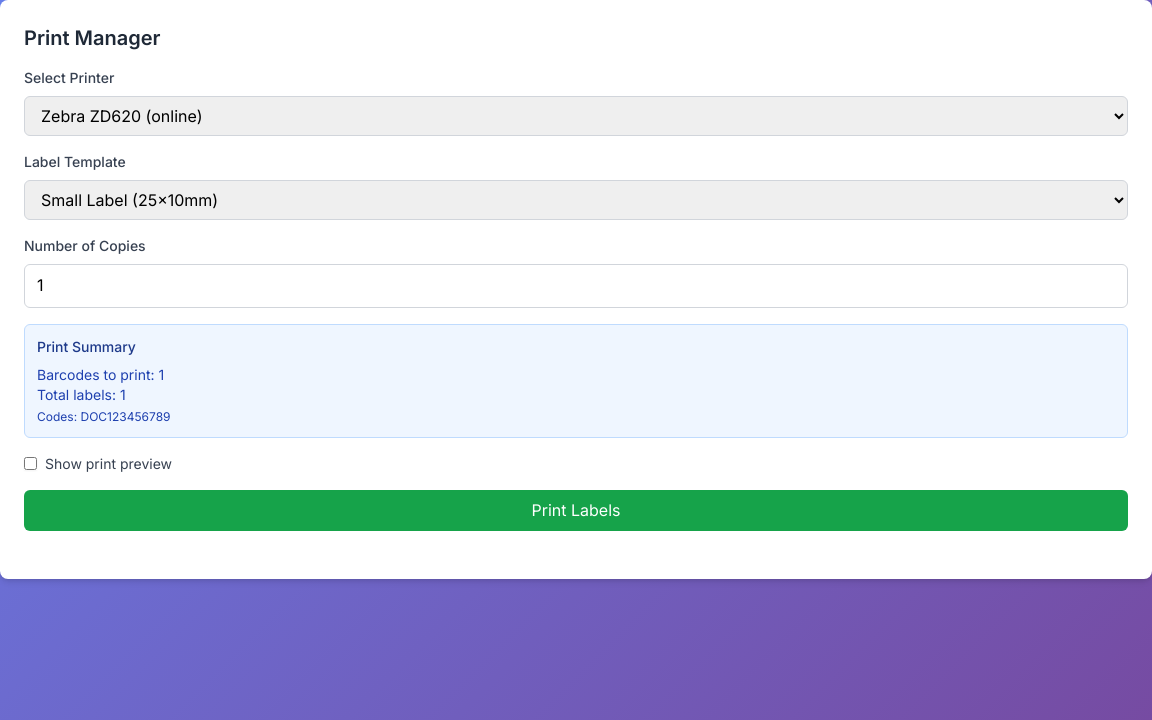
Test: PrintManager › updates copies and recalculates total labels
The width and height of the screenshot is (1152, 720).
Replace the text in the number field labelled "Number of Copies" with "3" at [576, 286], box [24,264,1128,308]
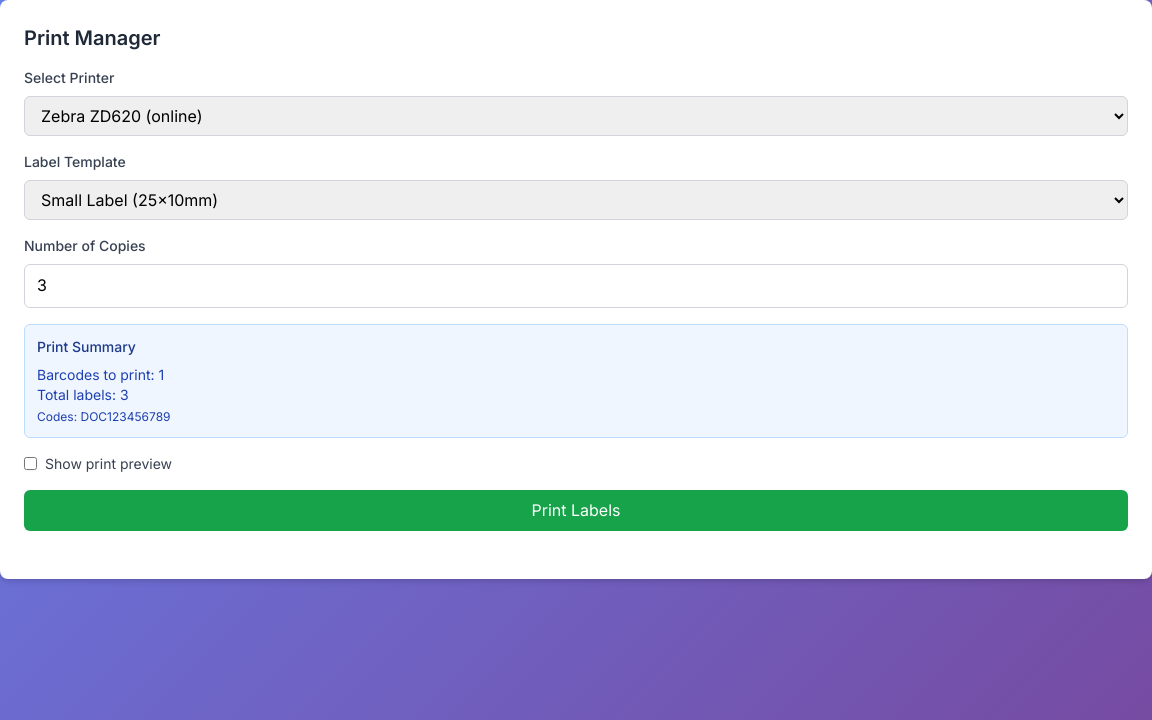
Expected: the text "Total labels: 3" is shown, [37,386,129,403]
